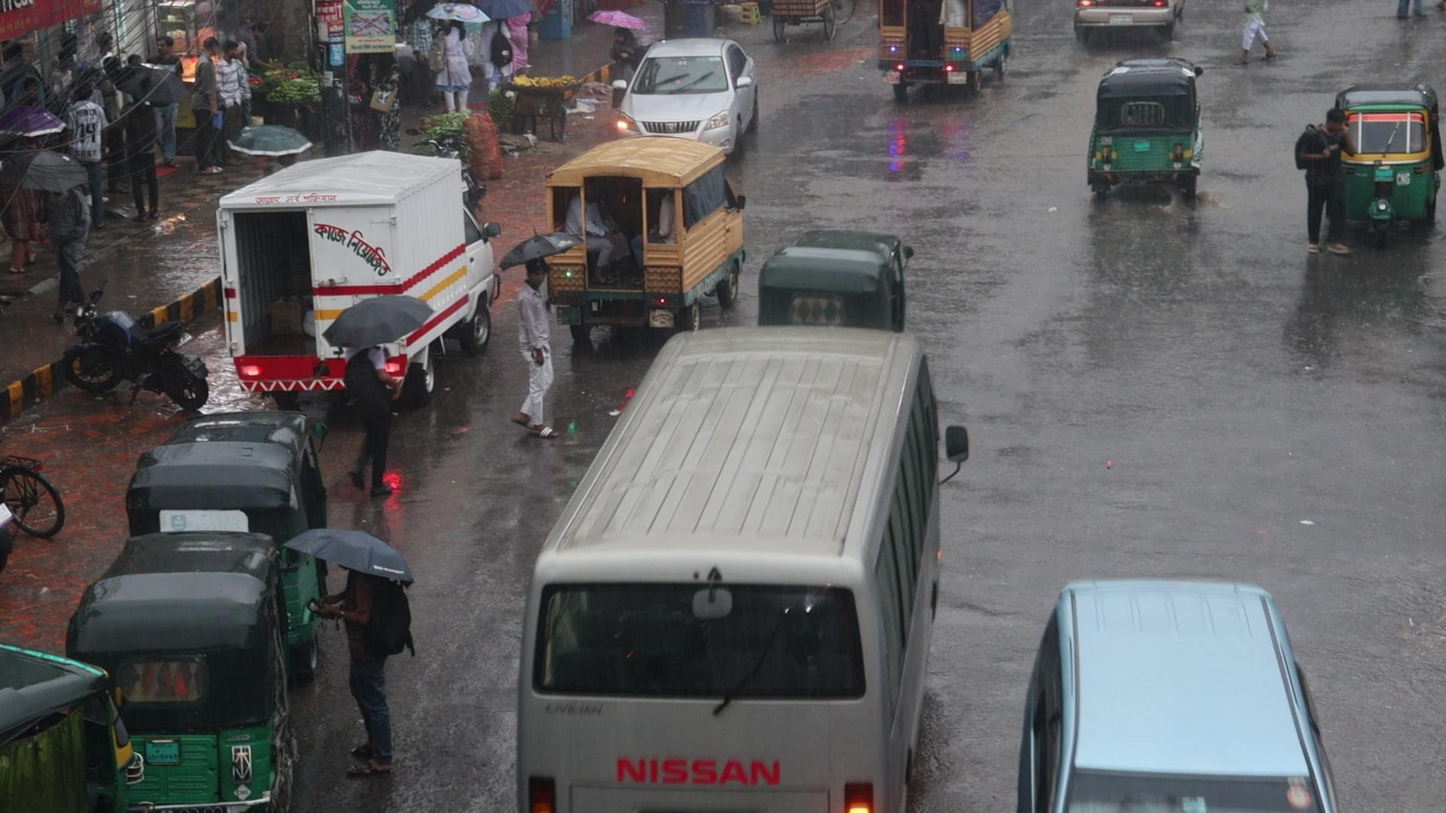Bus: (516, 321, 938, 813)
Car: (1017, 576, 1338, 813), (611, 37, 758, 147)
Truck: (540, 134, 747, 318)
